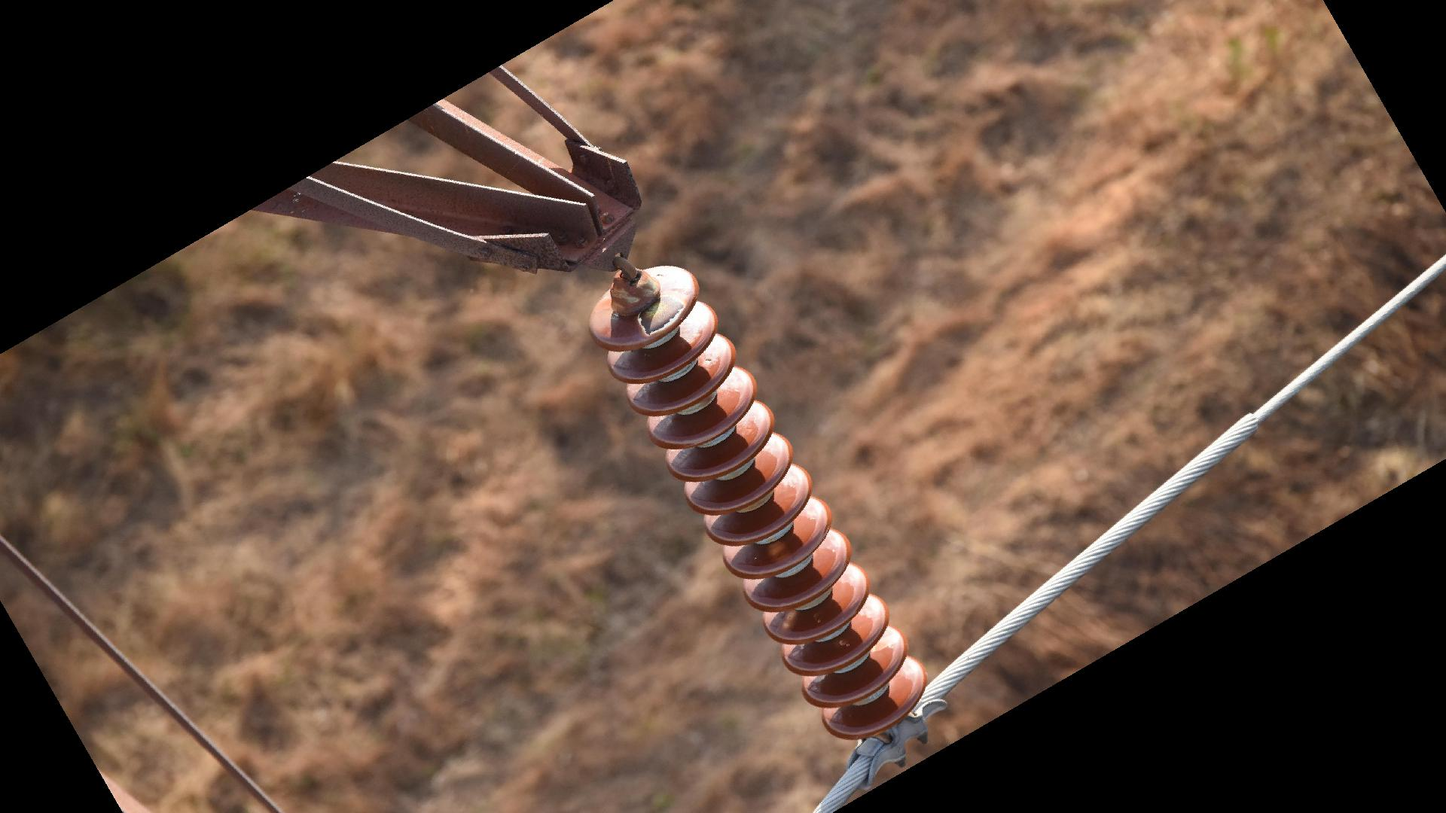insulator: (581, 262, 931, 743)
insulator_flashover: (633, 290, 686, 338)
